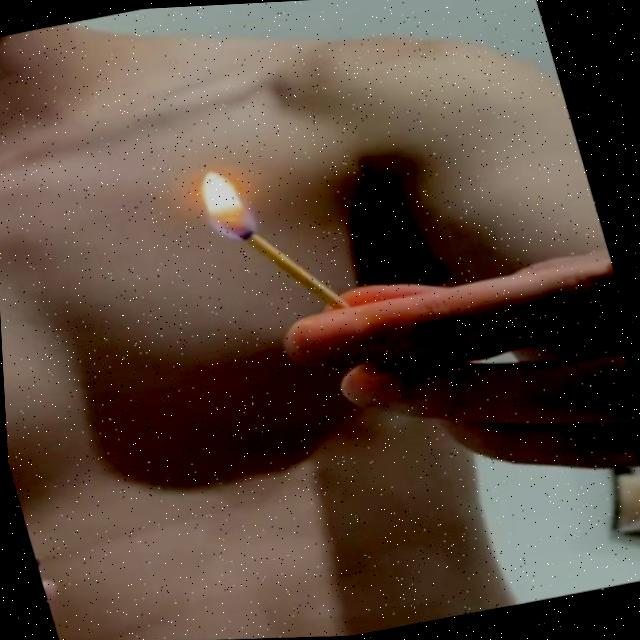fire: (196, 165, 267, 251)
